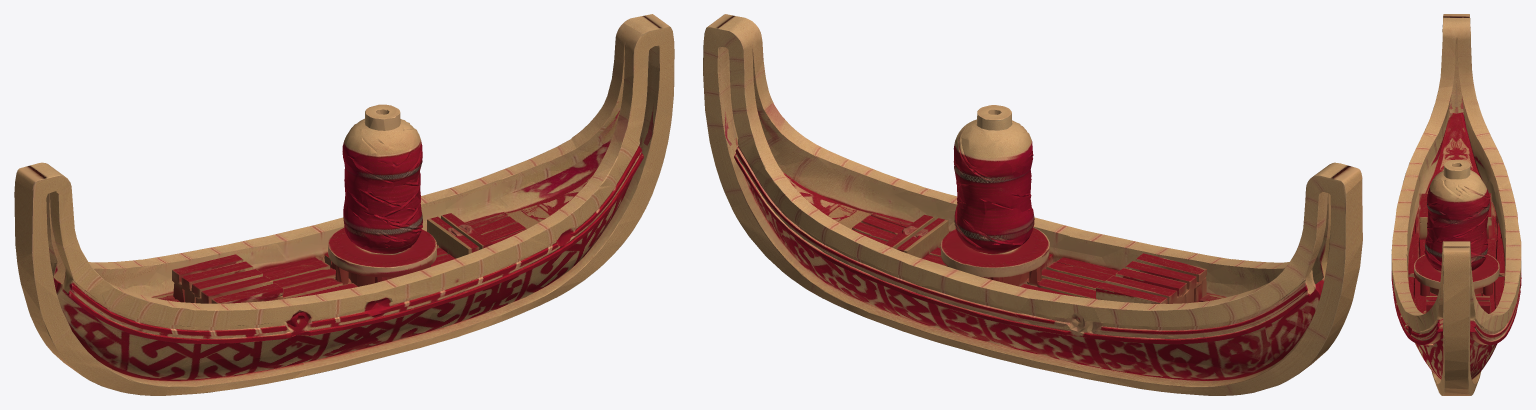
The model's file is TOOL_WEAVING_SHUTTLE_001.glb.
The picture shows the model from 3 angles, left to right: view 1: azimuth 30°, elevation 25°; view 2: azimuth 150°, elevation 25°; view 3: azimuth 270°, elevation 25°; orthographic projection. The views are drawn at different scales.
Bounding box in the file's own units: 1.9 × 0.7164 × 0.4346.
1 material, 1 textured.
